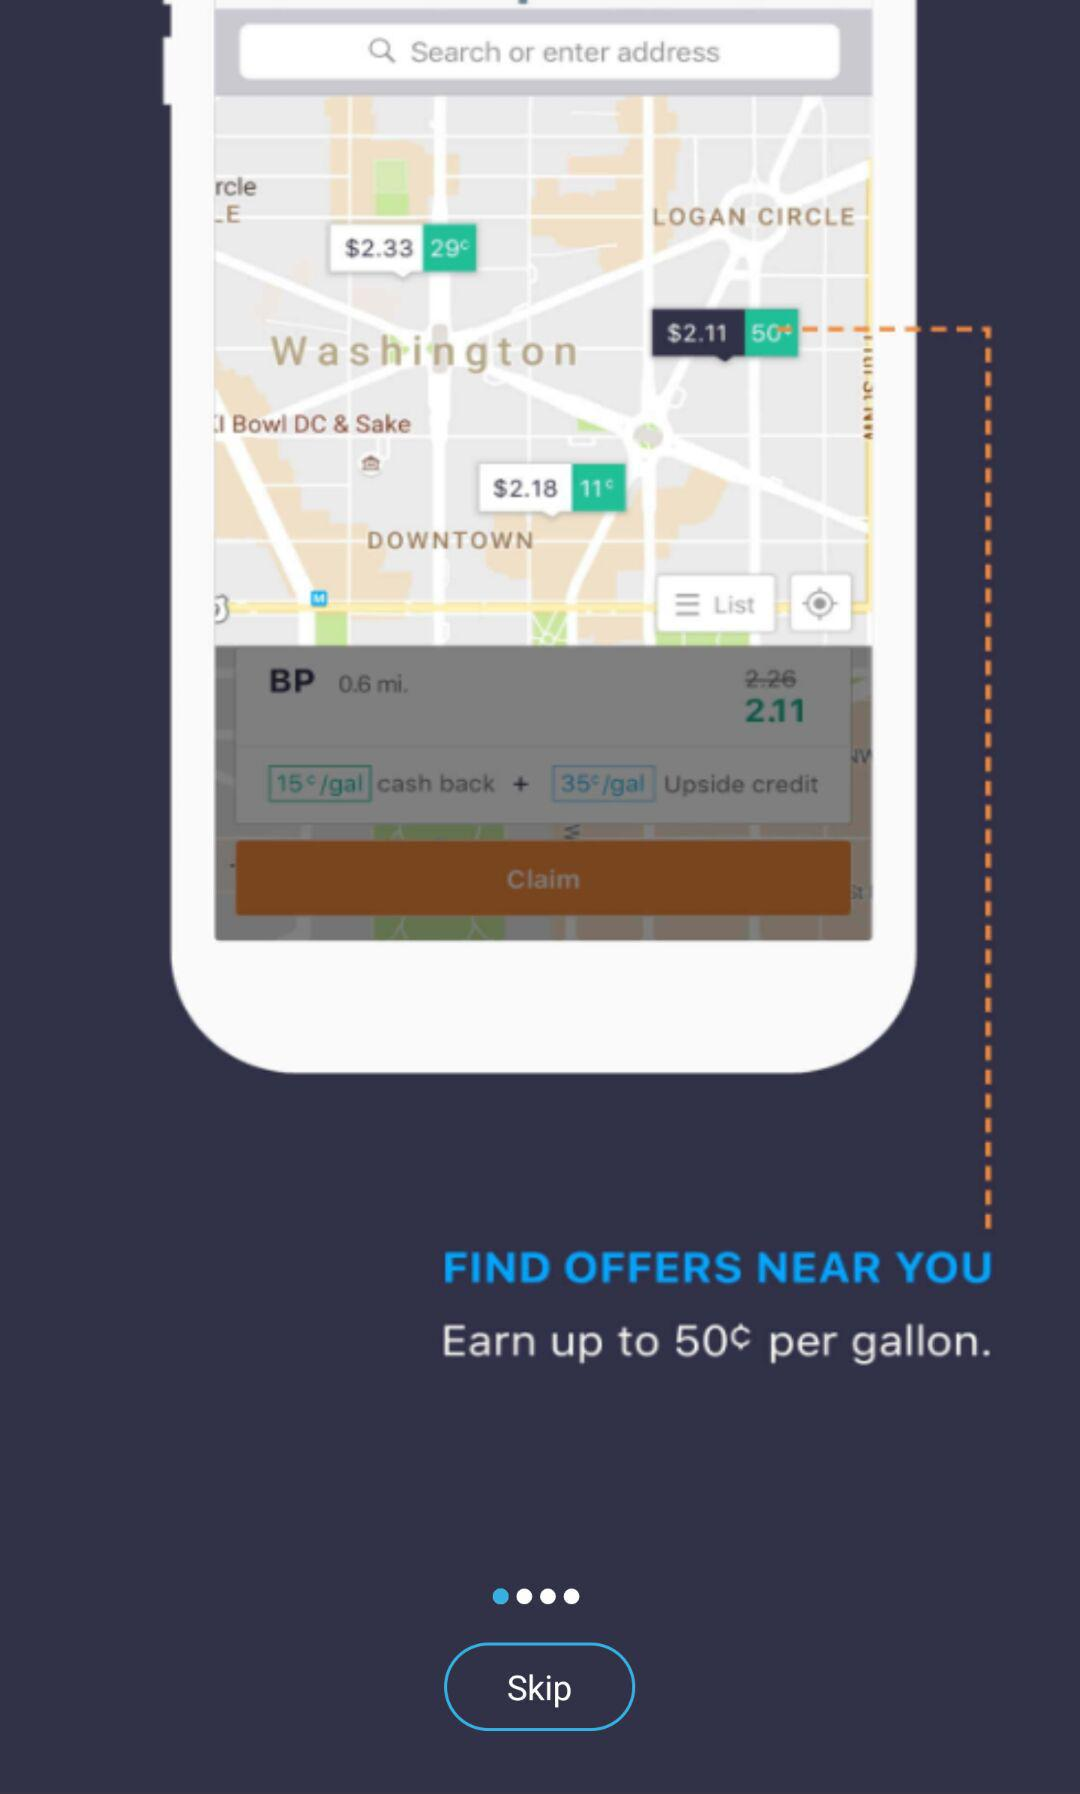Image: (161, 1, 920, 1076)
PageIndicator: (491, 1586, 582, 1607)
Text: (441, 1322, 992, 1369), (443, 1249, 994, 1287)
TextButton: (443, 1642, 635, 1732)
